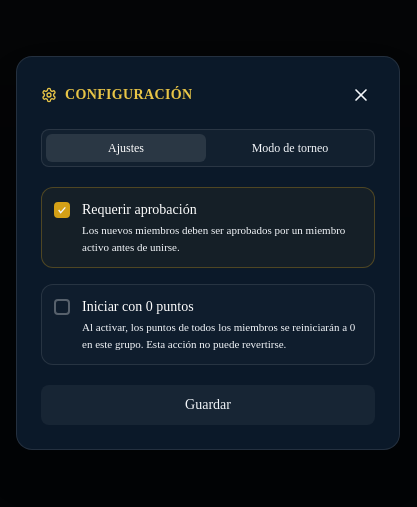
Test: TournamentSettingsModal – free group, enough members (canUpgrade) › save button becomes enabled after toggling a mode
Click the button "Modo de torneo": (290, 148) [210, 134, 370, 162]
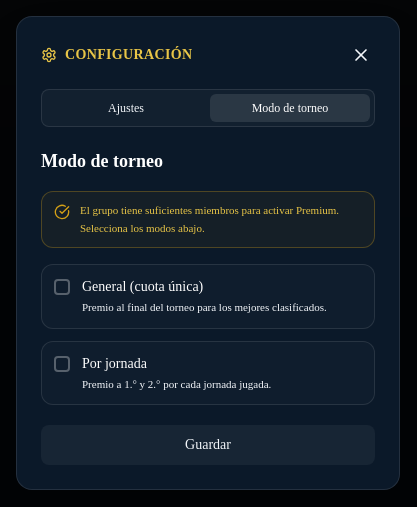
Click the checkbox named "General (cuota única)": (143, 287) [41, 264, 375, 329]
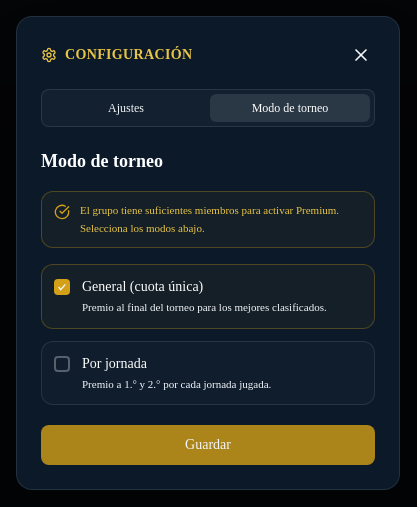
Now the button "Guardar" is enabled, box [41, 425, 375, 465]
